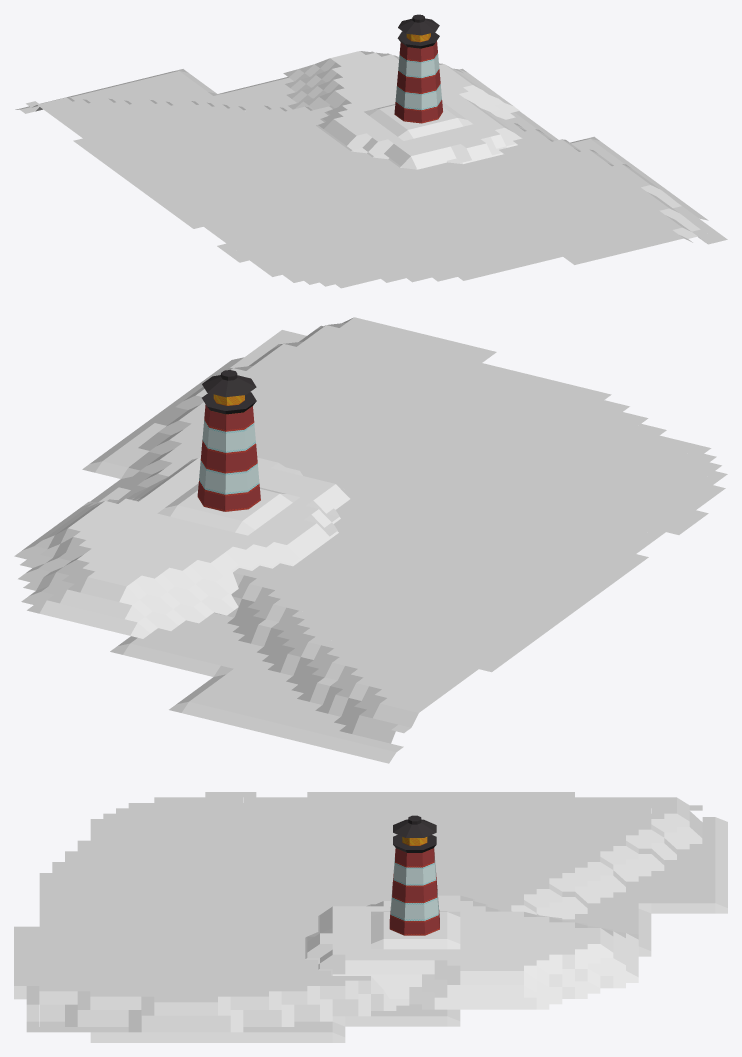
File: LightHouseIsland.fbx
3 views of the same model, one above another, from view 1: azimuth 30°, elevation 25°; view 2: azimuth 150°, elevation 25°; view 3: azimuth 270°, elevation 25° (orthographic). The views are drawn at different scales.
Parts seen in each view (by area): view 1: CornerIsland, IslandBase, Cylinder; view 2: CornerIsland, IslandBase, Cylinder; view 3: CornerIsland, IslandBase, Cylinder.
Boxes of the visible parts, x1=… form: CornerIsland: x1=15, y1=69, x2=727, y2=288; IslandBase: x1=283, y1=51, x2=522, y2=169; Cylinder: x1=394, y1=14, x2=442, y2=123; CornerIsland: x1=82, y1=317, x2=727, y2=763; IslandBase: x1=14, y1=457, x2=350, y2=638; Cylinder: x1=197, y1=370, x2=260, y2=511; CornerIsland: x1=14, y1=792, x2=727, y2=1042; IslandBase: x1=305, y1=895, x2=638, y2=1009; Cylinder: x1=389, y1=815, x2=439, y2=935.
Bounding box in the file's own units: 4200 × 1267 × 5600.
Materials: 3 (1 with a texture image).
